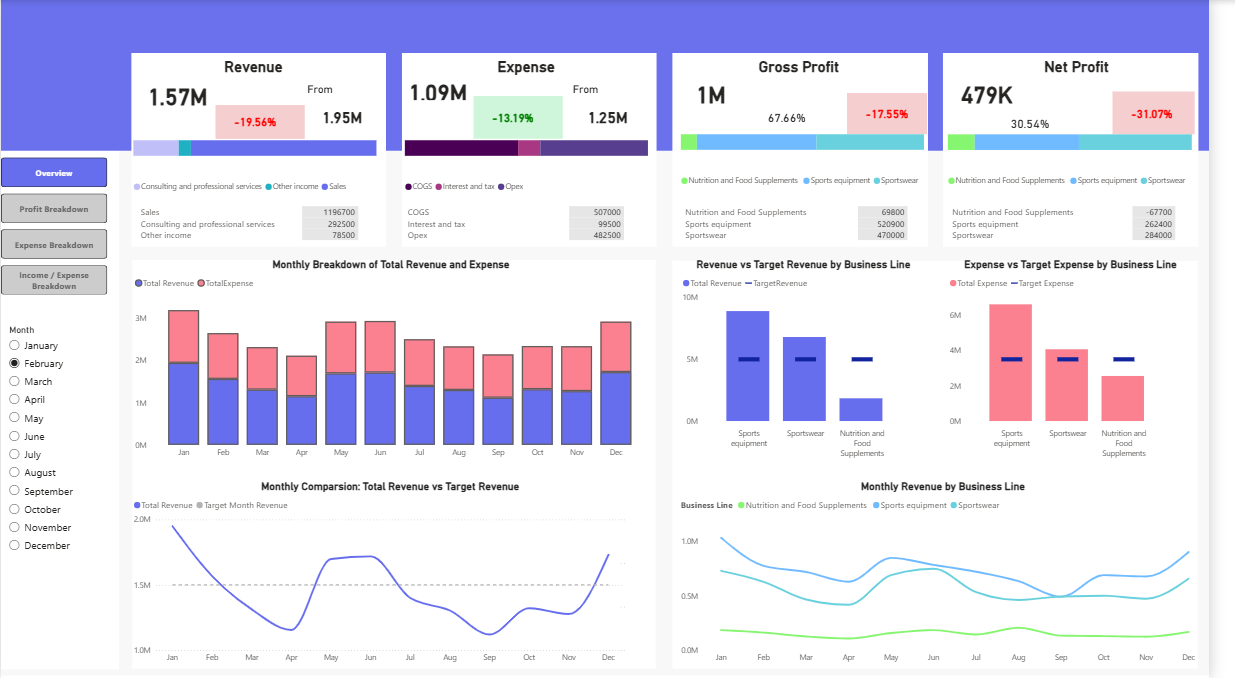

What the dashboard file says about the page in this screenshot:
{"tool":"powerbi","page":{"name":"Overview","canvas":[1920,1080],"ordinal":0},"visuals":[{"type":"cardVisual","fields":{"Data":["DAX.TotalRevenue"]},"box":[170.1,119.1,223.9,68],"z":0},{"type":"columnChart","title":"Monthly Breakdown of Total Revenue and Expense","fields":{"Y":["DAX.TotalRevenue","DAX.TotalExpense"],"Category":["Date Table.Short Month"]},"box":[207.6,410.4,825.5,326.9],"z":0,"group":"g1"},{"type":"cardVisual","fields":{"Data":["DAX.TotalExpense"]},"box":[600.9,113.4,187.1,62.4],"z":1000},{"type":"lineChart","title":"Monthly Comparsion: Total Revenue vs Target Revenue","fields":{"Category":["Date Table.Short Month"],"Y":["DAX.TotalRevenue"],"Y2":["DAX.Target Month Revenue"]},"box":[205.2,763.5,827.9,300.6],"z":1000,"group":"g1"},{"type":"slicer","fields":{"Values":["Date Table.Month"]},"box":[0,510.6,169.4,505.8],"z":2000},{"type":"lineChart","title":"Monthly Revenue by Business Line","fields":{"Category":["Date Table.Short Month"],"Y":["DAX.TotalRevenue"],"Series":["revenue_expense.Business Line"]},"box":[1076.1,763.5,844.6,300.6],"z":2000,"group":"g1"},{"type":"cardVisual","title":"From","fields":{"Data":["DAX.PrevMonthRev"]},"box":[481.9,130.4,187.1,90.7],"z":3000},{"type":"lineClusteredColumnComboChart","title":"Revenue vs Target Revenue by Business Line","fields":{"Y":["DAX.TotalRevenue"],"Category":["revenue_expense.Business Line"],"Y2":["DAX.TargetRevenue"]},"box":[1078,411,396,326],"z":3000,"group":"g1"},{"type":"cardVisual","fields":{"Data":["DAX.MoMRev%"]},"box":[340.2,167.2,141.7,53.9],"z":4000},{"type":"lineClusteredColumnComboChart","title":"Expense vs Target Expense by Business Line","fields":{"Y":["DAX.TotalExpense"],"Y2":["DAX.TargetExpense"],"Category":["revenue_expense.Business Line"]},"box":[1503,411,396,326],"z":4000,"group":"g1"},{"type":"hundredPercentStackedBarChart","fields":{"Y":["DAX.TotalRevenue"],"Series":["revenue_expense.Revenue / Expense Group"]},"box":[204.1,175.7,396.9,138.9],"z":5000},{"type":"textbox","box":[292,85,221.1,45.4],"z":6000},{"type":"cardVisual","title":"From","fields":{"Data":["DAX.PrevMonthExp"]},"box":[904.3,130.4,187.1,90.7],"z":7000},{"type":"cardVisual","fields":{"Data":["DAX.MoMExp%"]},"box":[751.2,153.1,141.7,68],"z":8000},{"type":"hundredPercentStackedBarChart","fields":{"Series":["revenue_expense.Revenue / Expense Group"],"Y":["DAX.TotalExpense"]},"box":[637.8,175.7,396.9,138.9],"z":9000},{"type":"pivotTable","fields":{"Rows":["revenue_expense.Revenue / Expense Group"],"Values":["DAX.TotalRevenue"]},"box":[212.3,295.9,396.1,97.8],"z":10000},{"type":"pivotTable","fields":{"Rows":["revenue_expense.Revenue / Expense Group"],"Values":["DAX.TotalExpense"]},"box":[637,295.9,398.4,114.5],"z":11000},{"type":"textbox","box":[637.8,85,396.9,45.4],"z":12000},{"type":"cardVisual","fields":{"Data":["DAX.Gross Profit"]},"box":[1034.9,102.4,187.6,93.8],"z":13000},{"type":"cardVisual","fields":{"Data":["DAX.Gross Profit Margin"]},"box":[1190.6,136.1,170.1,99.2],"z":14000},{"type":"cardVisual","fields":{"Data":["DAX.MoMGP%"]},"box":[1346.5,147.4,127.6,65.2],"z":15000},{"type":"hundredPercentStackedBarChart","fields":{"Y":["DAX.Gross Profit"],"Series":["revenue_expense.Business Line"]},"box":[1077.2,167.2,396.9,138.9],"z":16000},{"type":"textbox","box":[1128.7,85.3,281.5,59.7],"z":17000},{"type":"cardVisual","fields":{"Data":["DAX.Net Profit"]},"box":[1475.5,102.4,187.6,93.8],"z":18000},{"type":"cardVisual","fields":{"Data":["DAX.MoMNP%"]},"box":[1768.4,145,130.8,68.2],"z":19000},{"type":"cardVisual","fields":{"Data":["DAX.Net Profit Margin"]},"box":[1577.9,145,170.6,99.5],"z":20000},{"type":"hundredPercentStackedBarChart","fields":{"Series":["revenue_expense.Business Line"],"Y":["DAX.Net Profit"]},"box":[1501.1,167.7,398,139.3],"z":21000},{"type":"pivotTable","fields":{"Rows":["revenue_expense.Business Line"],"Values":["DAX.Net Profit"]},"box":[1503.1,295.9,396.1,114.5],"z":22000},{"type":"pivotTable","fields":{"Values":["DAX.Gross Profit"],"Rows":["revenue_expense.Business Line"]},"box":[1078.4,295.9,396.1,114.5],"z":23000},{"type":"textbox","box":[1500.7,85.9,419.9,66.8],"z":24000},{"type":"group","id":"g1","title":"Overview","box":[205.2,410.4,1715.5,653.7],"z":25000},{"type":"bookmarkNavigator","box":[0,250.5,169.4,221.9],"z":29000}]}

Visuals, with their boxes on the page's 1920x1080 design canvas (x1, y1, x2, y2). These are canvas units, not pixel positions in the 1235x678 screenshot, which may show the page scaled, cropped or inside an application window:
cardVisual - DAX.TotalRevenue: bbox(170, 119, 394, 187)
"Monthly Breakdown of Total Revenue and Expense" columnChart: bbox(208, 410, 1033, 737)
cardVisual - DAX.TotalExpense: bbox(601, 113, 788, 176)
"Monthly Comparsion: Total Revenue vs Target Revenue" lineChart: bbox(205, 764, 1033, 1064)
slicer - Date Table.Month: bbox(0, 511, 169, 1016)
"Monthly Revenue by Business Line" lineChart: bbox(1076, 764, 1921, 1064)
"From" cardVisual: bbox(482, 130, 669, 221)
"Revenue vs Target Revenue by Business Line" lineClusteredColumnComboChart: bbox(1078, 411, 1474, 737)
cardVisual - DAX.MoMRev%: bbox(340, 167, 482, 221)
"Expense vs Target Expense by Business Line" lineClusteredColumnComboChart: bbox(1503, 411, 1899, 737)
hundredPercentStackedBarChart - DAX.TotalRevenue x revenue_expense.Revenue / Expense Group: bbox(204, 176, 601, 315)
textbox: bbox(292, 85, 513, 130)
"From" cardVisual: bbox(904, 130, 1091, 221)
cardVisual - DAX.MoMExp%: bbox(751, 153, 893, 221)
hundredPercentStackedBarChart - revenue_expense.Revenue / Expense Group x DAX.TotalExpense: bbox(638, 176, 1035, 315)
pivotTable - revenue_expense.Revenue / Expense Group x DAX.TotalRevenue: bbox(212, 296, 608, 394)
pivotTable - revenue_expense.Revenue / Expense Group x DAX.TotalExpense: bbox(637, 296, 1035, 410)
textbox: bbox(638, 85, 1035, 130)
cardVisual - DAX.Gross Profit: bbox(1035, 102, 1222, 196)
cardVisual - DAX.Gross Profit Margin: bbox(1191, 136, 1361, 235)
cardVisual - DAX.MoMGP%: bbox(1346, 147, 1474, 213)
hundredPercentStackedBarChart - DAX.Gross Profit x revenue_expense.Business Line: bbox(1077, 167, 1474, 306)
textbox: bbox(1129, 85, 1410, 145)
cardVisual - DAX.Net Profit: bbox(1476, 102, 1663, 196)
cardVisual - DAX.MoMNP%: bbox(1768, 145, 1899, 213)
cardVisual - DAX.Net Profit Margin: bbox(1578, 145, 1748, 244)
hundredPercentStackedBarChart - revenue_expense.Business Line x DAX.Net Profit: bbox(1501, 168, 1899, 307)
pivotTable - revenue_expense.Business Line x DAX.Net Profit: bbox(1503, 296, 1899, 410)
pivotTable - DAX.Gross Profit x revenue_expense.Business Line: bbox(1078, 296, 1474, 410)
textbox: bbox(1501, 86, 1921, 153)
"Overview" group: bbox(205, 410, 1921, 1064)
bookmarkNavigator: bbox(0, 250, 169, 472)
